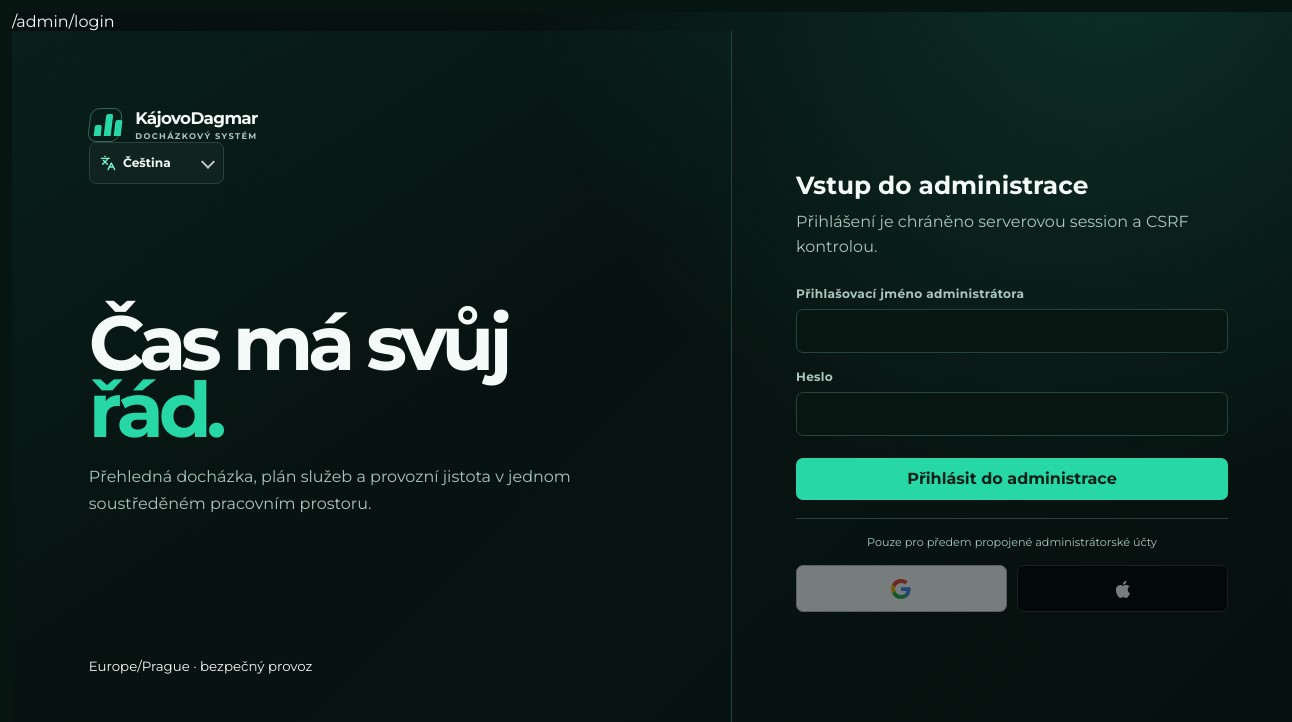
it: admin authentication flow › uses /admin/prehled after login without next
The width and height of the screenshot is (1292, 722).
In the field labelled "Přihlašovací jméno administrátora": (1012, 331) x1=796 y1=309 x2=1228 y2=353, type "provoz@hotelchodovasc.cz"
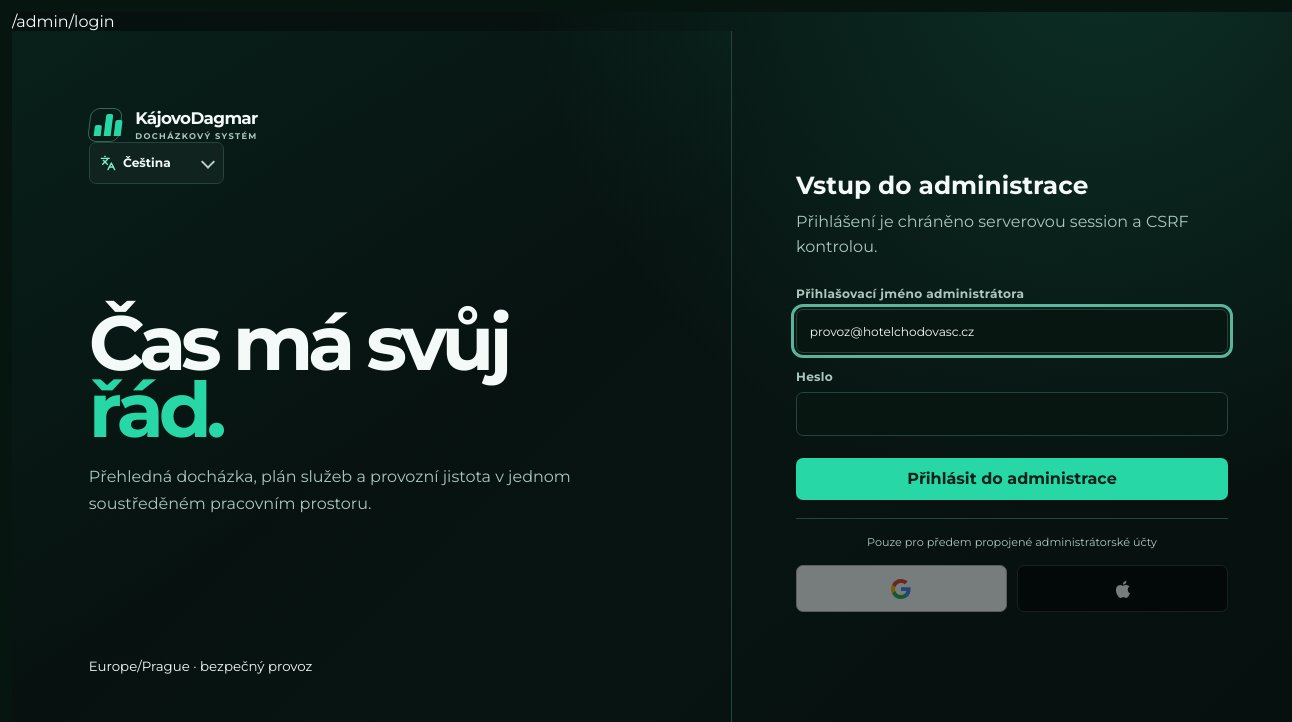
In the password field labelled "Heslo": (1012, 414) x1=796 y1=392 x2=1228 y2=436, type "StrongPass123"
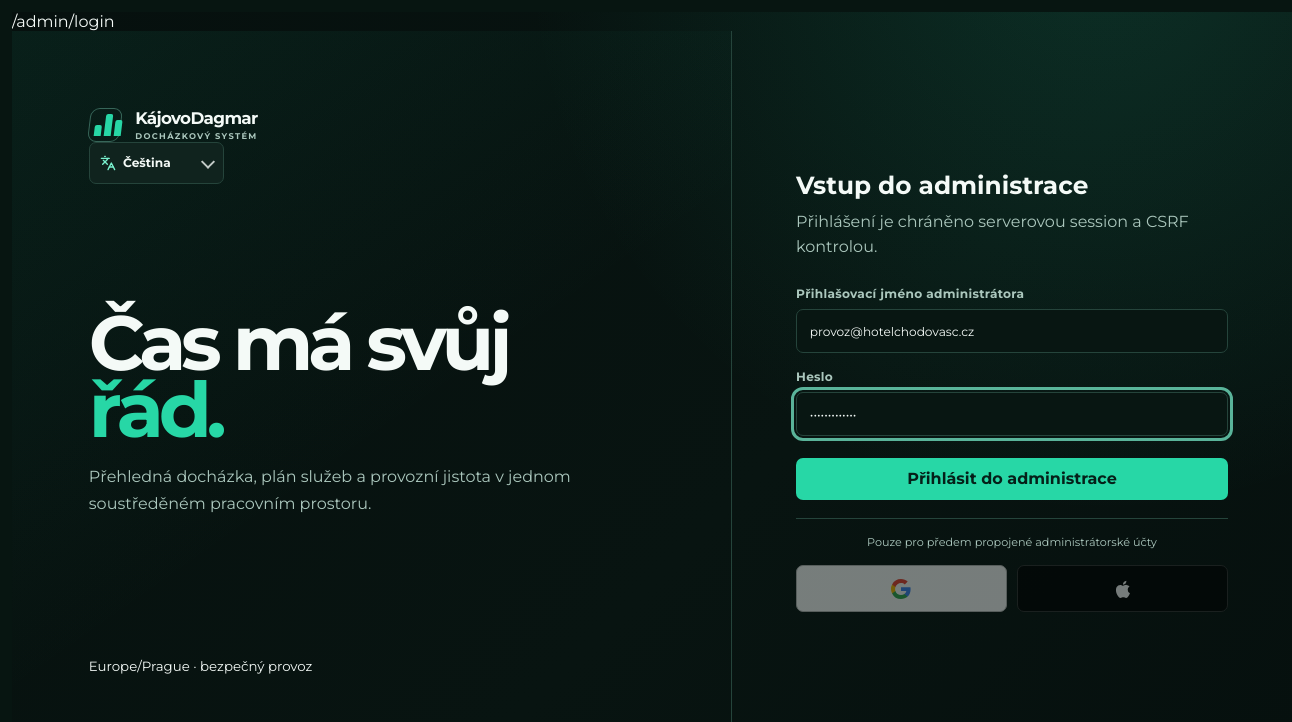
Click the button "Přihlásit do administrace": (1012, 479) x1=796 y1=458 x2=1228 y2=500
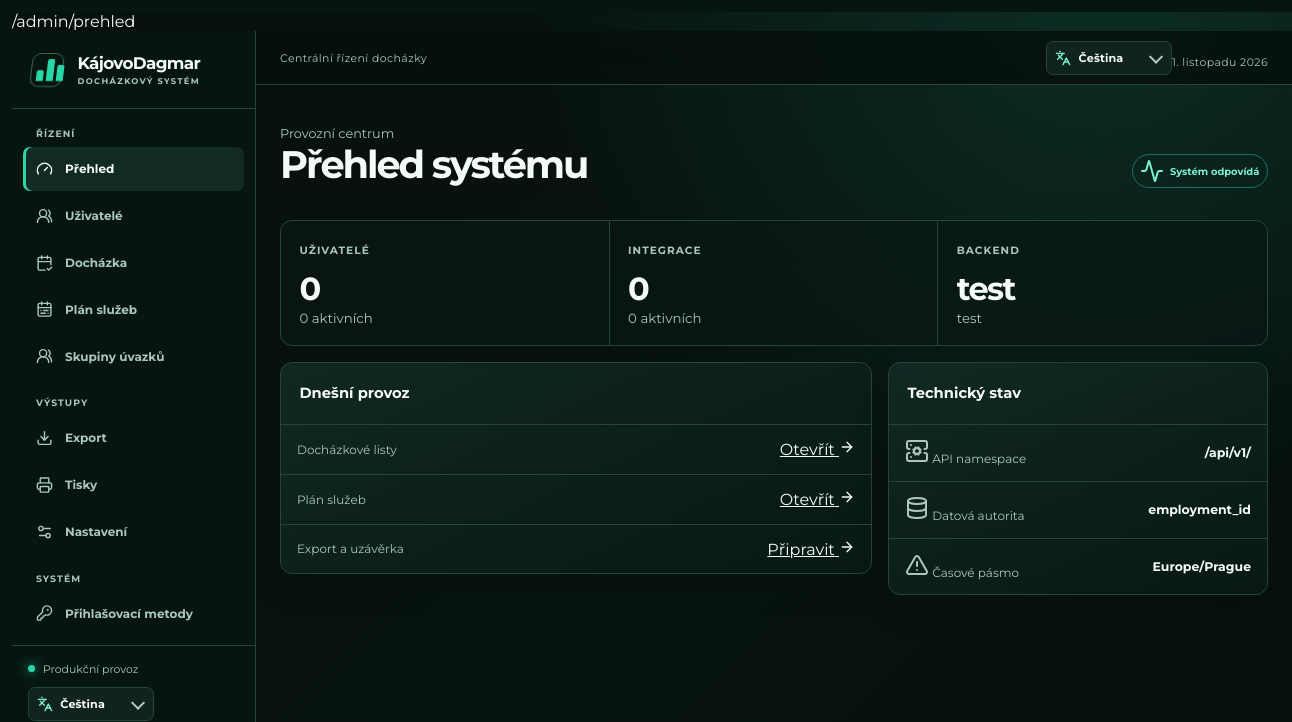
expect the heading "Přehled systému" is shown: met, box x1=280 y1=141 x2=587 y2=188
expect the text named "Aktuální cesta" reads "/admin/prehled": met, box x1=12 y1=12 x2=135 y2=31
